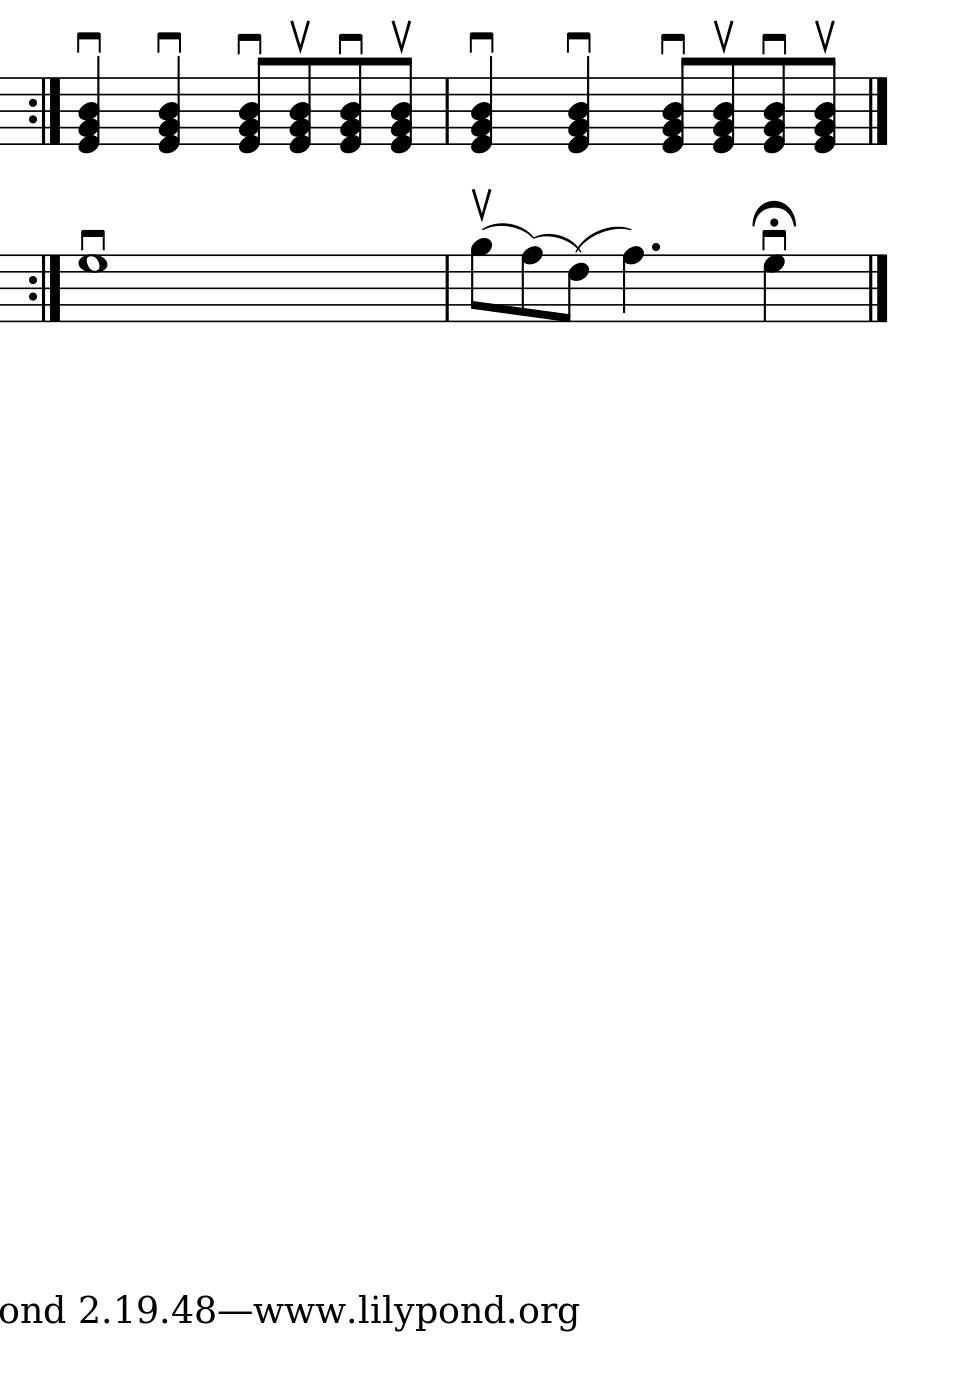1_7: (77, 253, 108, 324)
4_7: (763, 252, 786, 324)
4_8: (622, 246, 645, 322)
4_th: (468, 53, 494, 158), (156, 53, 182, 157), (565, 54, 592, 156), (76, 54, 102, 157)
8_6: (562, 253, 590, 323)
8_8: (520, 246, 544, 323)
8_9: (470, 236, 492, 324)
8_th: (237, 56, 272, 157), (660, 56, 694, 157), (287, 56, 313, 157), (712, 56, 737, 157), (762, 56, 787, 157), (812, 56, 838, 156), (389, 55, 414, 157), (338, 56, 363, 157)
Down_bow: (562, 29, 594, 55), (657, 31, 688, 57), (73, 29, 104, 55), (153, 29, 183, 55), (466, 29, 496, 55), (233, 31, 265, 56), (335, 31, 366, 56), (758, 31, 789, 56), (78, 227, 107, 252), (759, 230, 789, 253)
Fermata_above: (749, 199, 798, 230)
Final_barline: (862, 76, 893, 146), (864, 253, 891, 322)
RightRepeatSign: (25, 256, 64, 323), (23, 77, 60, 145)
Single_barline: (439, 256, 454, 321), (440, 78, 455, 143)
Slur: (578, 225, 633, 249), (482, 222, 533, 241), (533, 233, 581, 252)
Tremolo_bar: (711, 18, 735, 55), (812, 18, 836, 55), (288, 18, 311, 55), (390, 18, 412, 55), (471, 187, 492, 224)
dot: (649, 240, 661, 255)
